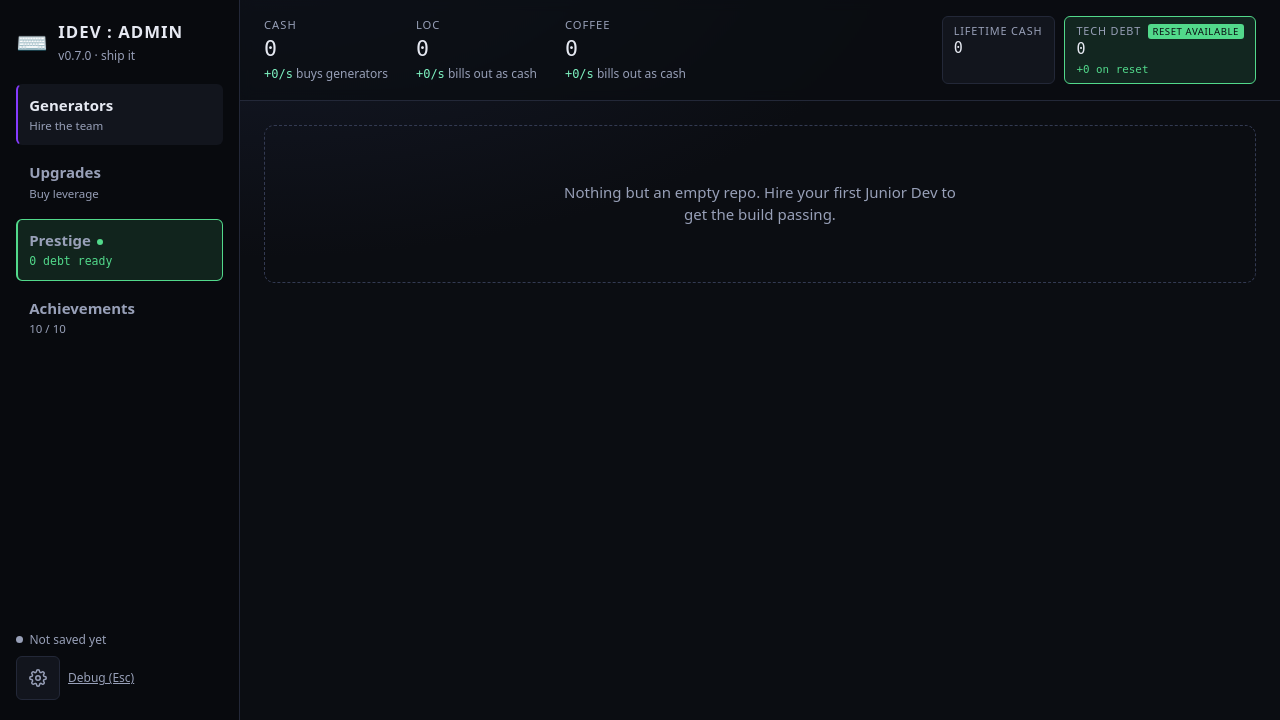
Test: the panel never goes blank › points at prestige when every upgrade is genuinely bought
Click the button "Upgrades Buy leverage" at (120, 182), box x1=16 y1=152 x2=223 y2=213
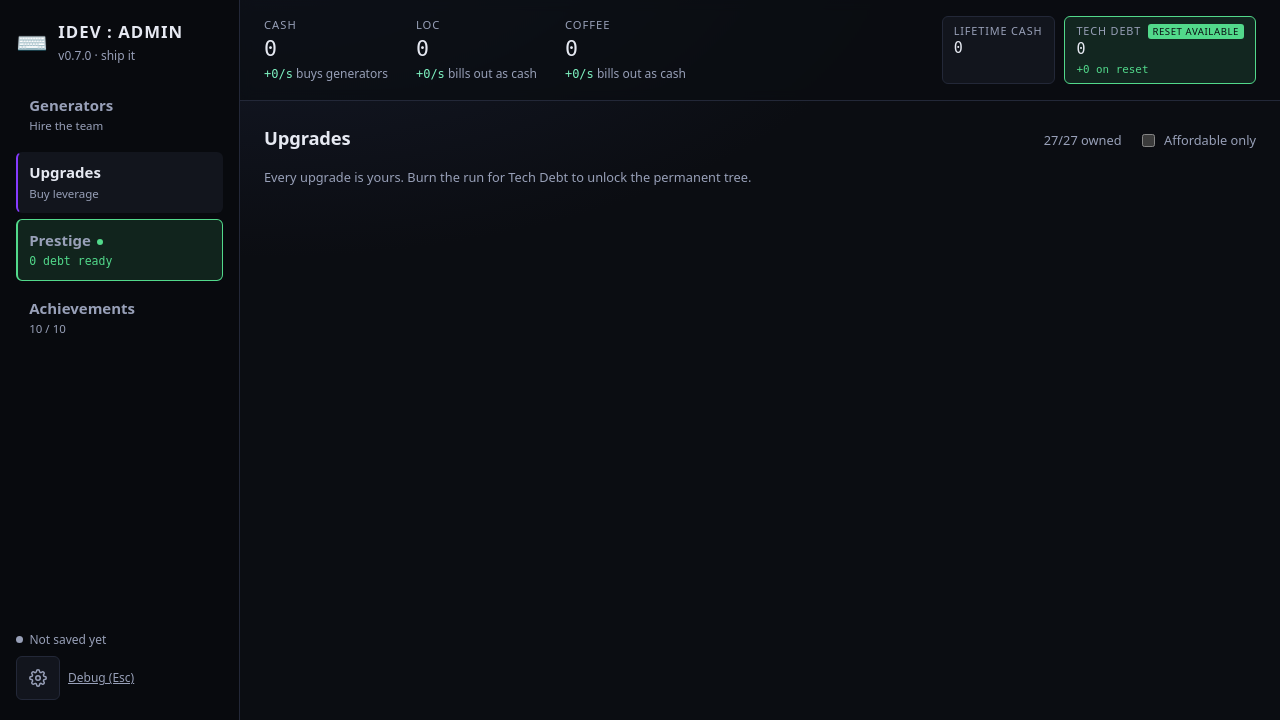
Expected: the text "Tech Debt" is shown, x1=1076 y1=23 x2=1141 y2=38
Expected: the text "Every upgrade is yours" is shown, x1=264 y1=168 x2=752 y2=186
